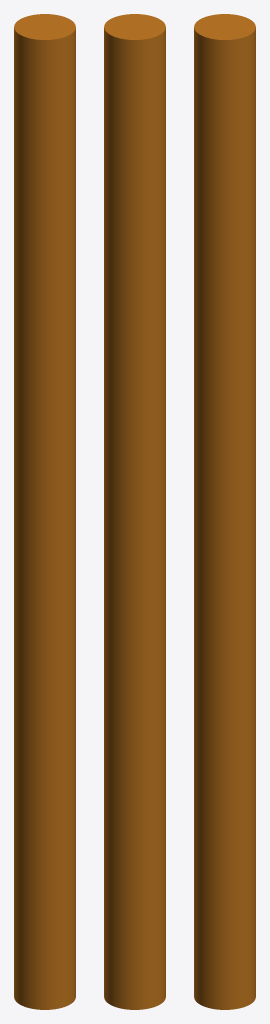
The model's file is Limbo_stick_brown.obj.
3 renders of one model, left to right at view 1: azimuth 30°, elevation 25°; view 2: azimuth 150°, elevation 25°; view 3: azimuth 330°, elevation 25°, orthographic.
Visible parts, largest first — view 1: mesh1, mesh2; view 2: mesh1, mesh2; view 3: mesh1, mesh2.
Boxes of the visible parts, x1,y1,x2,y2 form: mesh1: (14, 27, 75, 1009); mesh2: (14, 14, 75, 39); mesh1: (104, 27, 165, 1009); mesh2: (104, 14, 165, 39); mesh1: (194, 27, 255, 1009); mesh2: (194, 14, 255, 39).
Size of the model in its own units: 0.0318 by 0.55 by 0.0317.
